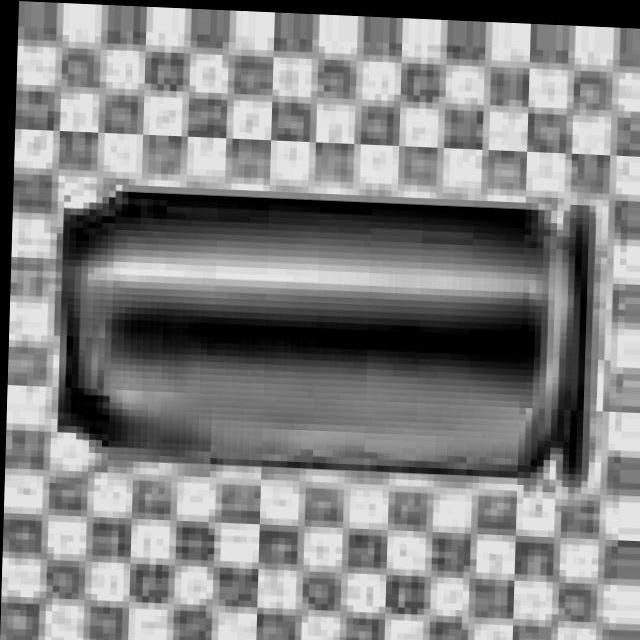litter: (29, 166, 596, 482)
